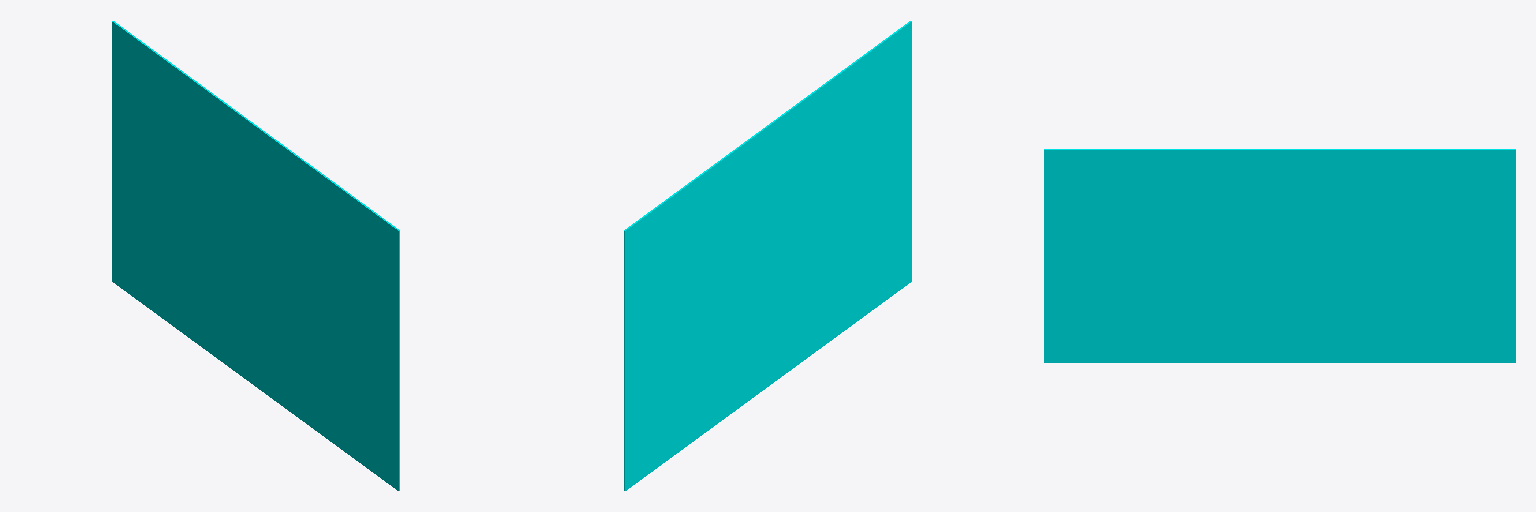
robot.urdf — ball:
<?xml version="0.0" ?>
<robot name="ball">
    <link name="wall">
        <contact>
            <lateral_friction value="1"/>
        </contact>

        <inertial>
            <origin xyz="0 0 0" rpy="0 0 0"/>
            <mass value="0.0"/>
            <inertia ixx="0"  ixy="0"  ixz="0" iyy="0" iyz="0" izz="0" />
        </inertial>

        <visual>
            <origin xyz="0 0 0" rpy="0 0 0" />
            <geometry>
                <box size="0.01 3.0 1.5" />
            </geometry>
            <material name="Cyan">
                <color rgba="0 1.0 1.0 1.0"/>
            </material>
        </visual>

        <collision>
            <origin xyz="0 0 0" rpy="0 0 0"/>
            <geometry>
                <box size="0.01 3.0 1.5" />
            </geometry>
        </collision>
    </link>
</robot>

--- What the picture shows (computed from the rendered views, not written in the file) ---
Views: 3 orthographic renders of the robot side by side, from view 1: azimuth 30°, elevation 25°; view 2: azimuth 150°, elevation 25°; view 3: azimuth 270°, elevation 25°.
Robot: ball — 1 links, 0 joints (none); root link wall; default pose: every joint at zero.
Links seen in each view (by area): view 1: wall; view 2: wall; view 3: wall.
Boxes of the visible links, <box> form: wall: <box>112,21,399,490</box>; wall: <box>624,21,911,490</box>; wall: <box>1044,149,1515,362</box>.
Bounding box of the posed robot: 0.01 × 3 × 1.5 m (x, y, z).
Geometry: primitives only (box / cylinder / sphere), no mesh files.